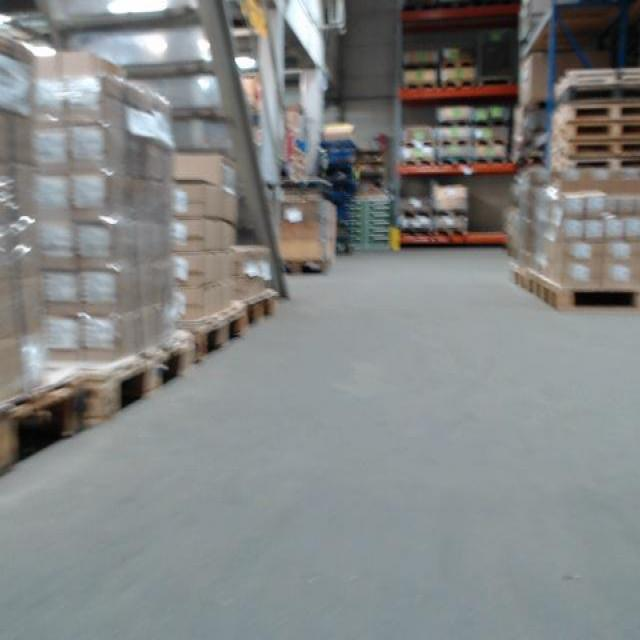pallet: (88, 335, 195, 430), (0, 377, 91, 478), (550, 87, 640, 159), (542, 278, 640, 310), (193, 305, 247, 363), (243, 290, 278, 328), (282, 256, 337, 275), (556, 159, 640, 169), (526, 269, 544, 297), (440, 76, 477, 89), (403, 60, 438, 72), (439, 59, 475, 70), (433, 208, 469, 218), (474, 136, 509, 146), (398, 209, 432, 219), (433, 227, 467, 237), (512, 265, 527, 287), (474, 156, 510, 165), (439, 137, 470, 147), (399, 228, 432, 237), (404, 82, 438, 90), (402, 140, 436, 148), (402, 159, 436, 167), (439, 157, 472, 165)
